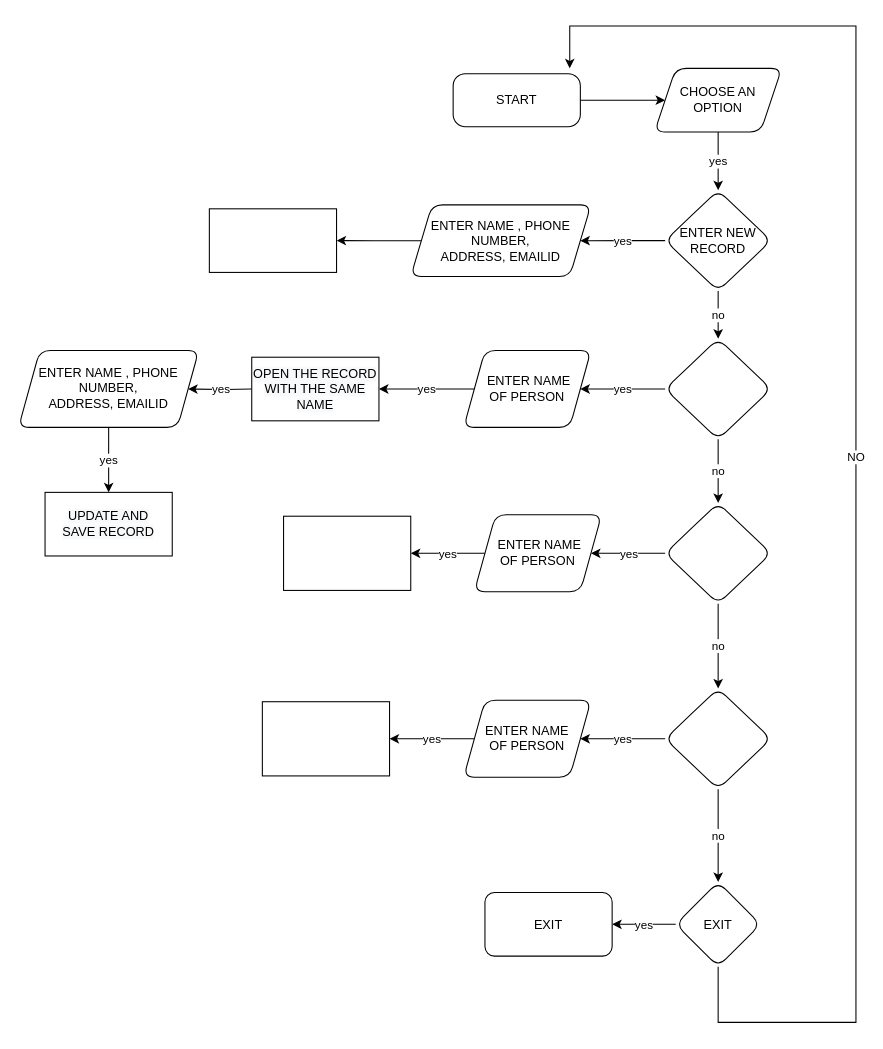
Image size: 883x1049. Some labels were removed from this diagram. The shapes that lost their labels are listed below. From the top down, each one's centre as x and y in pixels, then its label:
At (x=272, y=240): "SAVE THE RECORD".
At (x=717, y=388): "MODIFY A RECORD".
At (x=346, y=552): "DELETE THE RECORD WITH THE SAME NAME".
At (x=717, y=553): "DELETE A RECORD".
At (x=325, y=738): "SHOW THE RECORD WITH THE SAME NAME".
At (x=717, y=738): "FIND A RECORD".
